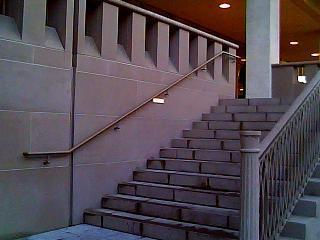Escaleras: (106, 100, 319, 239)
